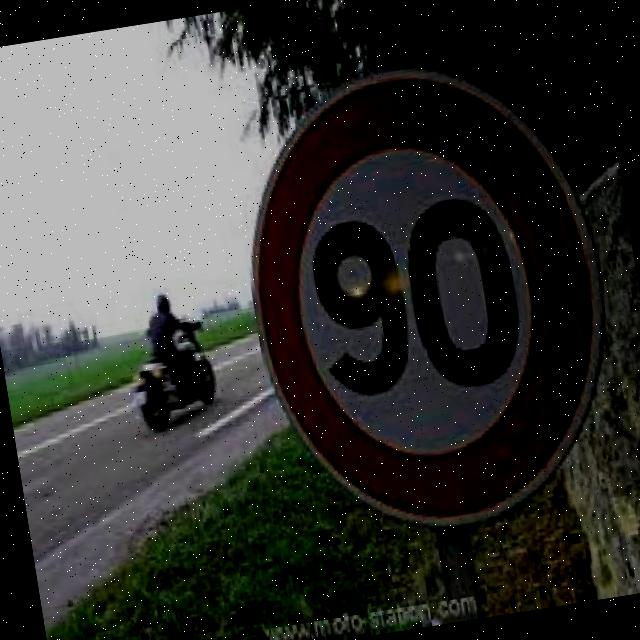Ograniczenie predkosci do 90: (215, 44, 626, 546)
